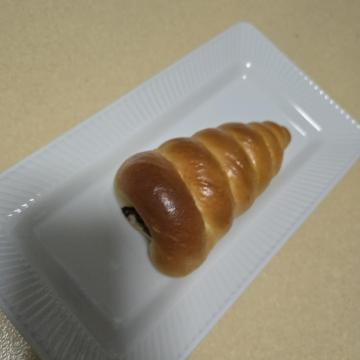cream horn: (88, 56, 297, 258)
